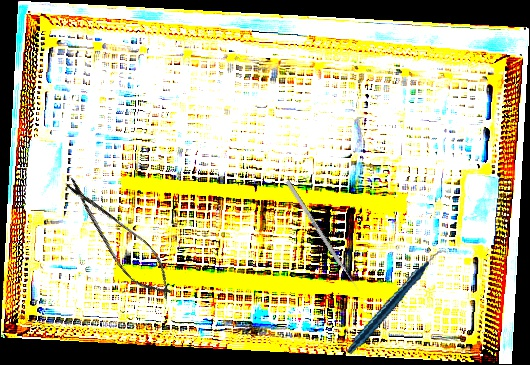Handpiece: (330, 249, 464, 355)
Micro Scissor: (52, 167, 185, 310)
Pusher: (284, 179, 362, 294)
